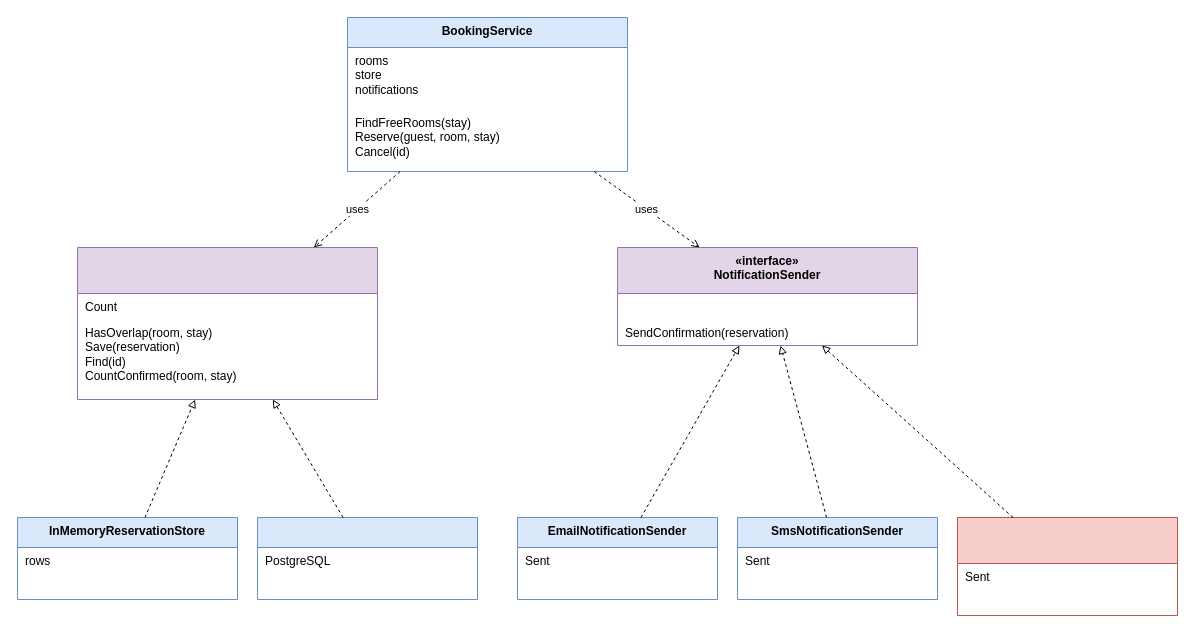
The diagram is 1195 pixels wide and 633 high, and some of its shapes have lost their labels. Here are the shapes that lost their labels. From the top down, the box of each, then its label:
(76, 246, 378, 400): «interface» ReservationStore
(256, 516, 478, 600): EloquentReservationStore
(956, 516, 1178, 616): «tests only» FakeNotificationSender
